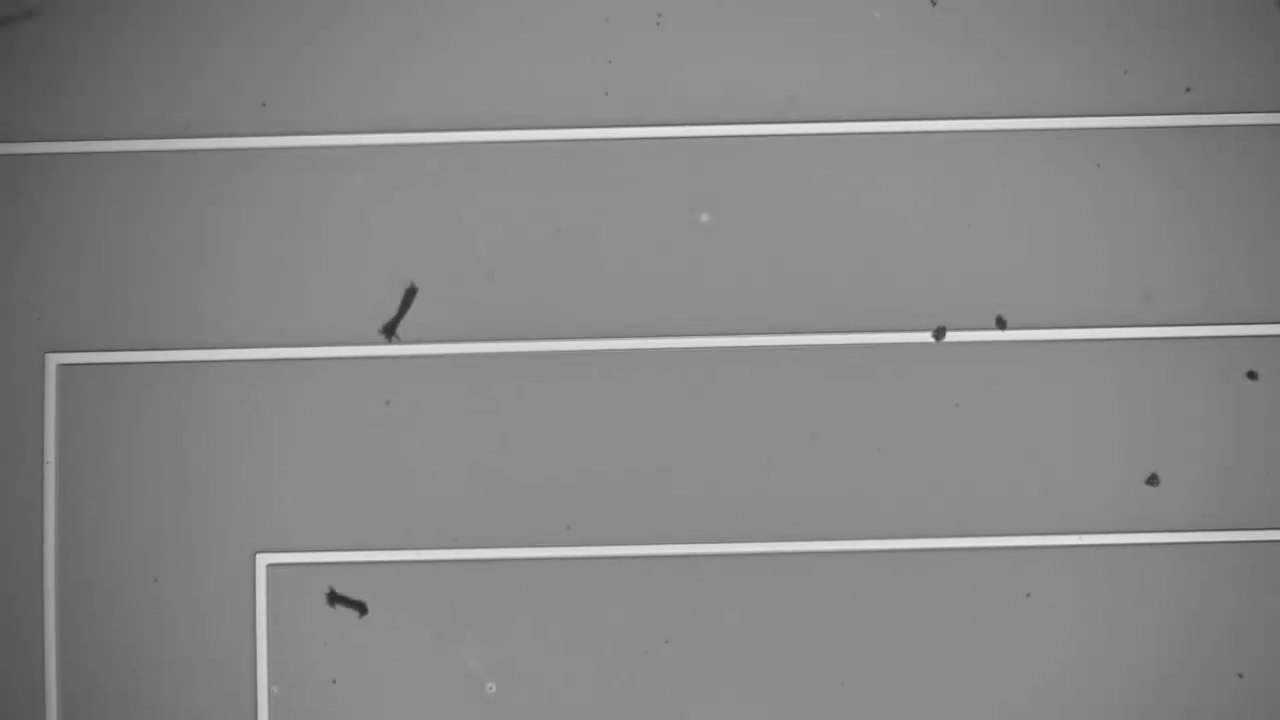stains_enbedded: (925, 316, 954, 350)
